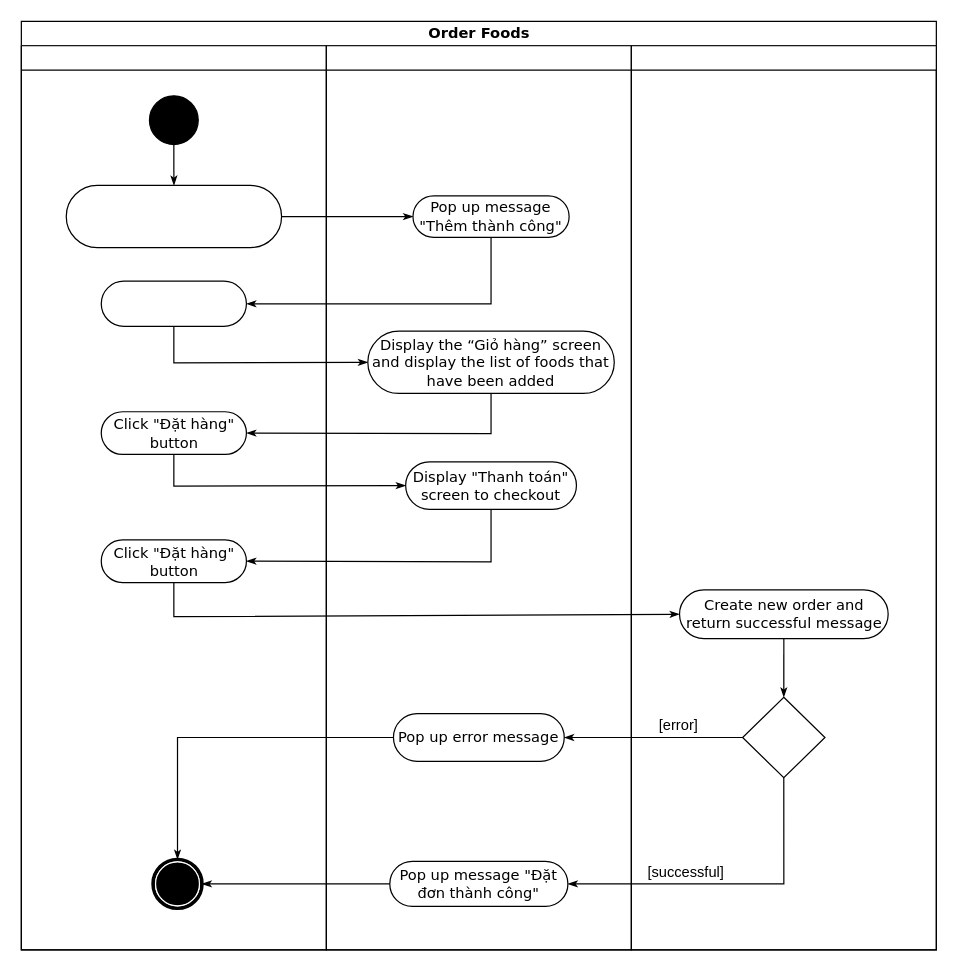
This 958x971 diagram has some shape labels left out. Here are the shapes that lost their labels. From the top down, the box of each, then its label:
(65, 184, 282, 248): Click the "+" button to add menu items to the cart
(100, 280, 246, 326): Click "Giỏ hàng" button
(20, 45, 326, 950): Customer
(325, 45, 631, 950): Mobile App
(630, 45, 936, 950): Server
